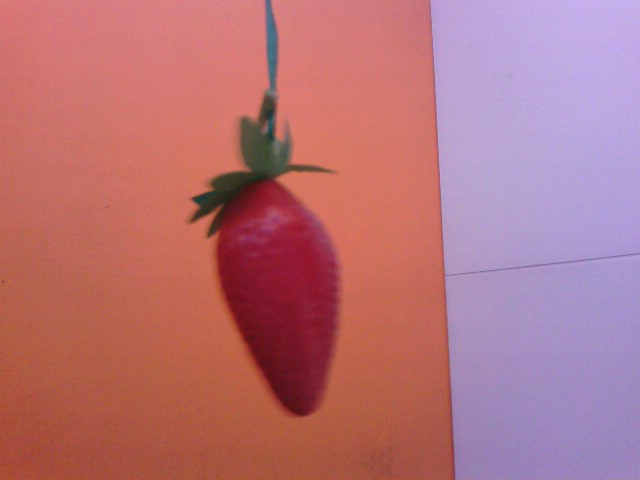strawberry: (206, 143, 352, 418)
